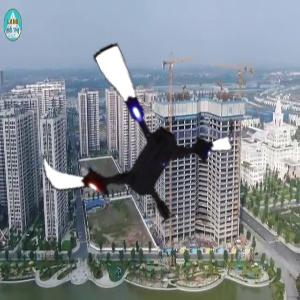drone: (34, 38, 237, 241)
